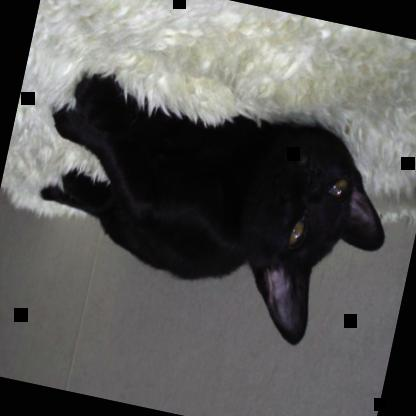cat: (16, 67, 406, 359)
